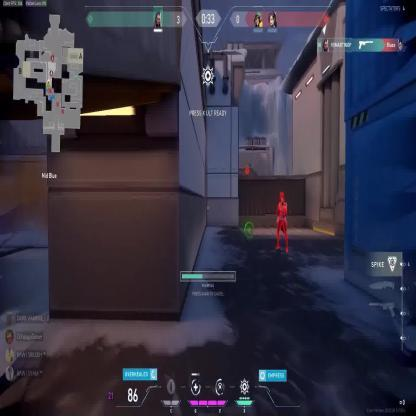enemy: (275, 191, 288, 252), (244, 166, 250, 184)
enemy_head: (280, 191, 284, 203), (246, 166, 248, 170)
